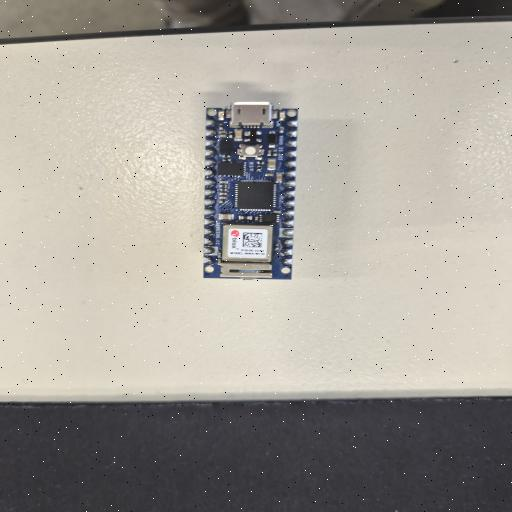arduino-nano-iot-33: (204, 105, 294, 281)
